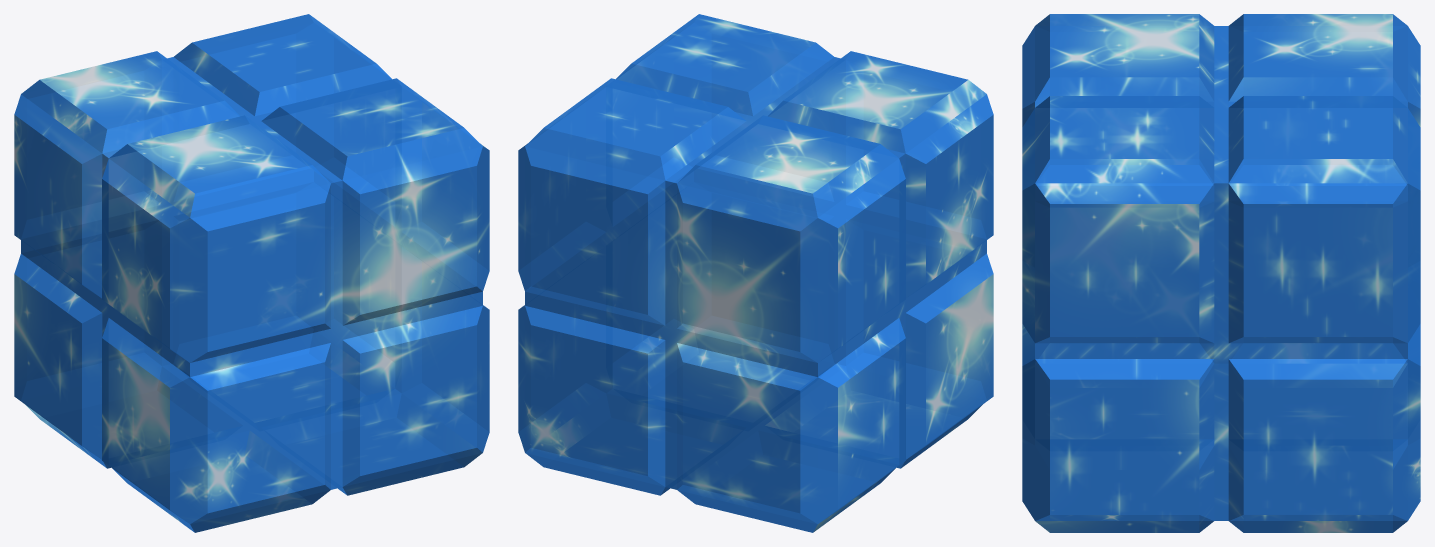
Rendered from crystalblock.fbx.
3 renders of one model, left to right at view 1: azimuth 30°, elevation 25°; view 2: azimuth 150°, elevation 25°; view 3: azimuth 270°, elevation 25°, orthographic. The views are drawn at different scales.
Parts seen in each view (by area): view 1: BlueCrystalBlock; view 2: BlueCrystalBlock; view 3: BlueCrystalBlock.
Part boxes in pixels (x1=…): BlueCrystalBlock: x1=14, y1=14, x2=489, y2=532; BlueCrystalBlock: x1=518, y1=14, x2=993, y2=532; BlueCrystalBlock: x1=1022, y1=14, x2=1420, y2=532.
Bounding box in the file's own units: 105 × 106 × 102.
